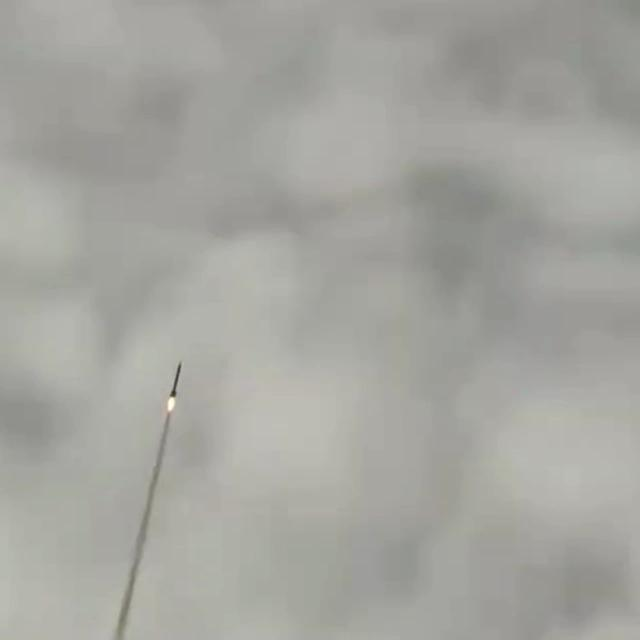smoke_trail_with_rocket: (110, 361, 182, 640)
